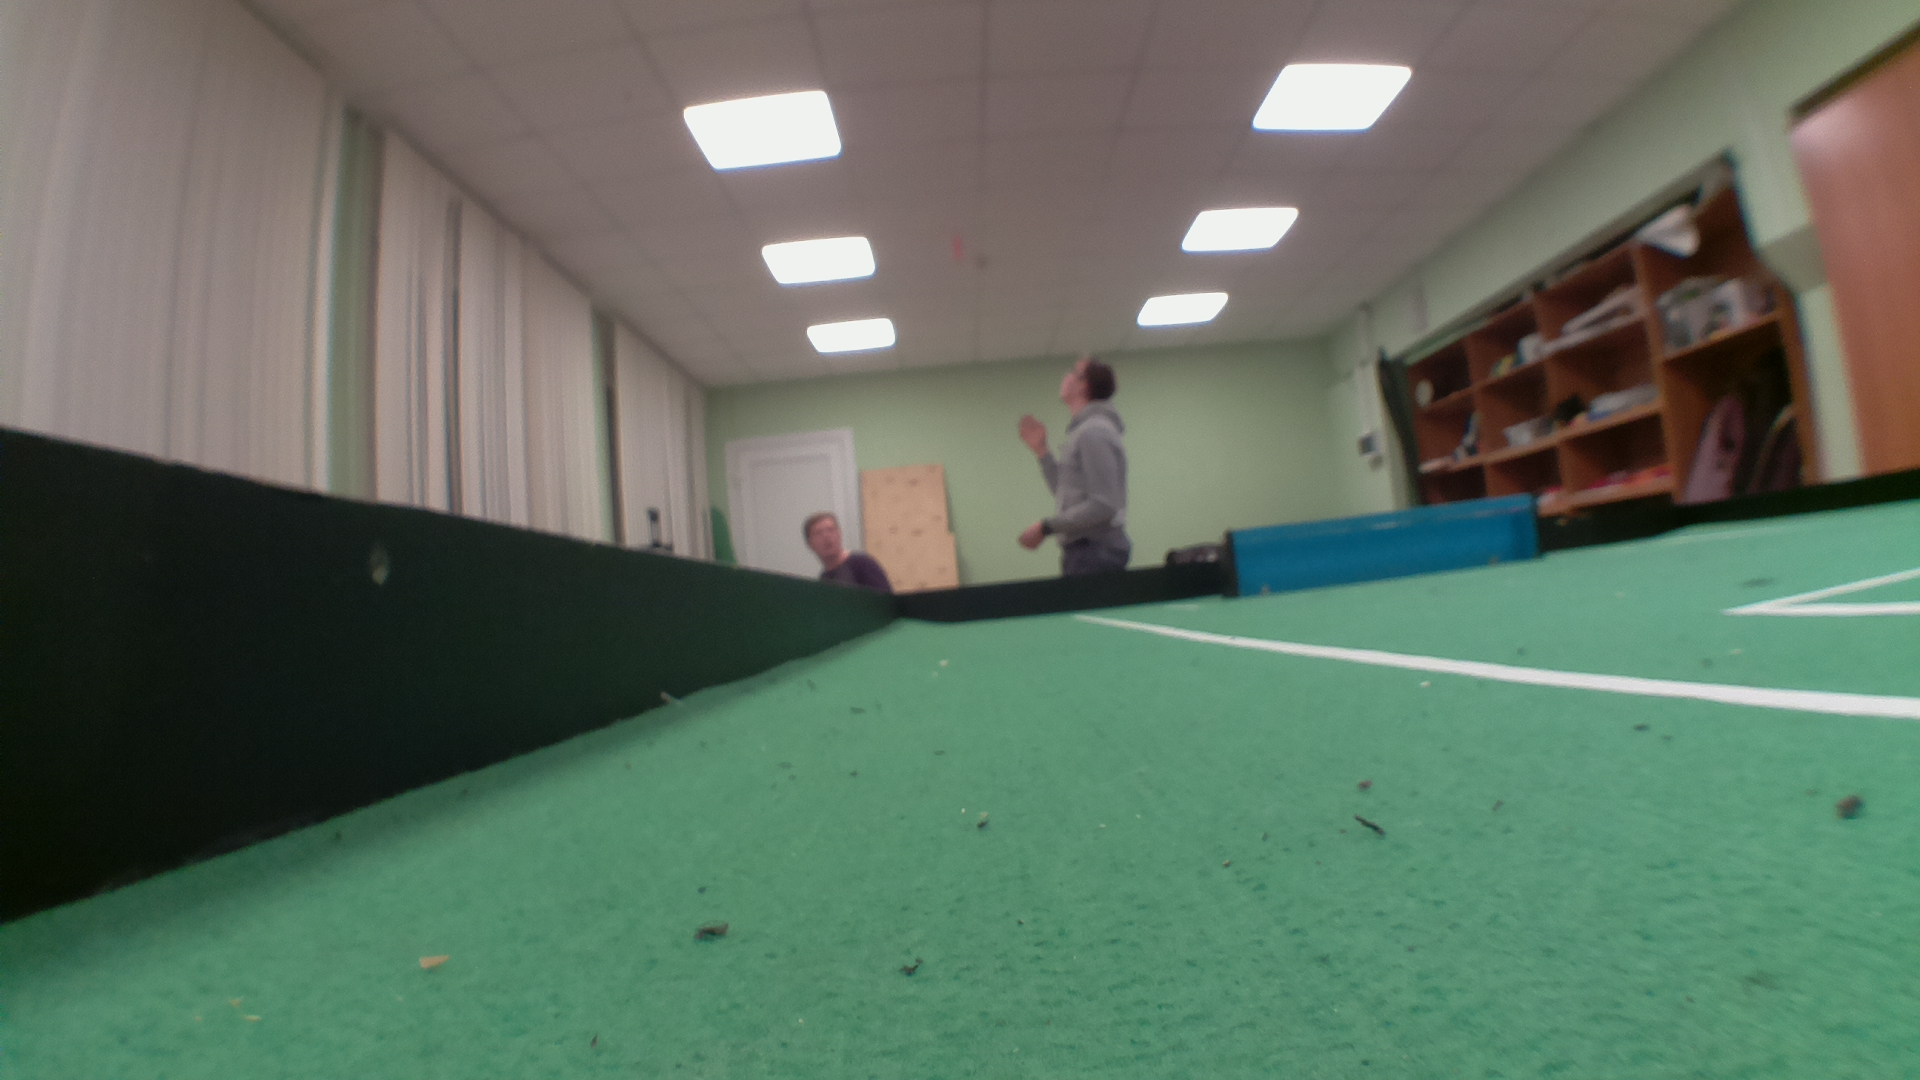BlueGoal: (1233, 495, 1534, 597)
